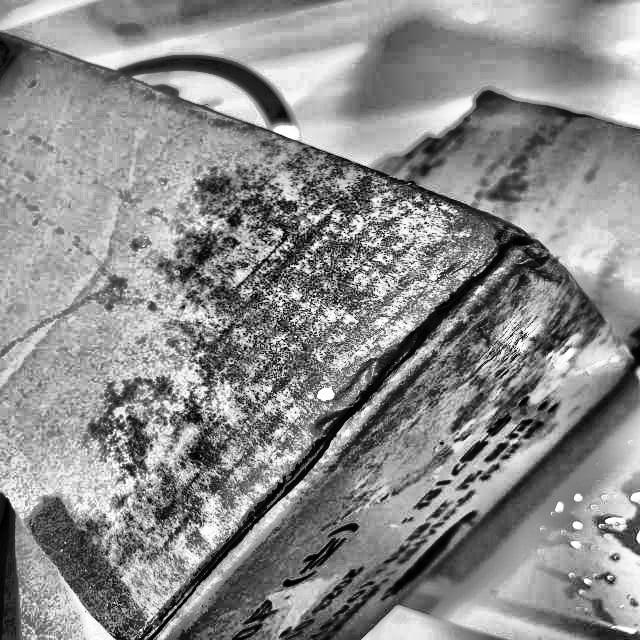box: (0, 24, 639, 639)
wet: (152, 168, 579, 512)
